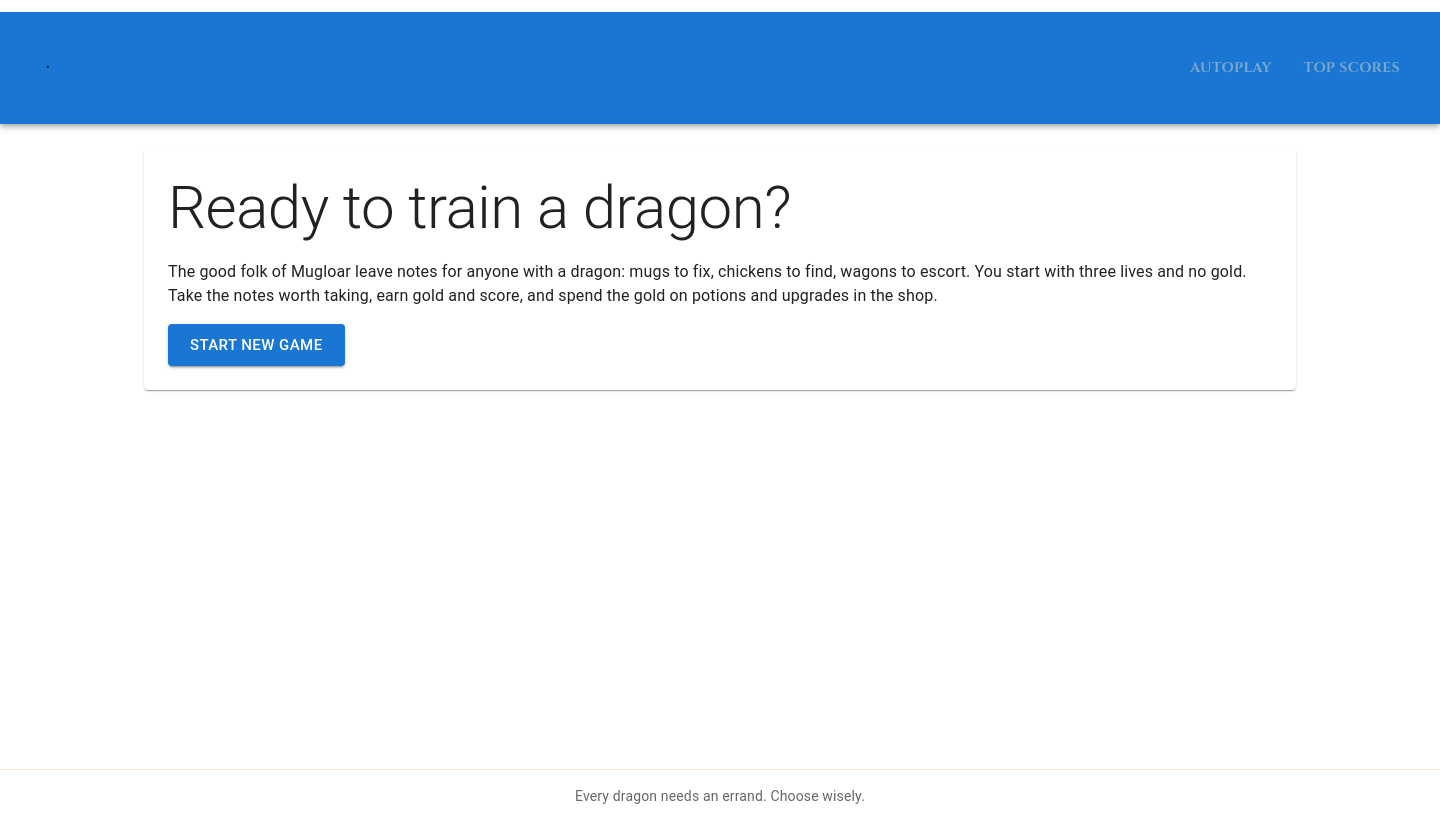
App › appShowsTheAutoplayPanelOnItsTab
Click the tab "Autoplay" at (1231, 68), box top-left (1174, 44), bottom-right (1288, 92)
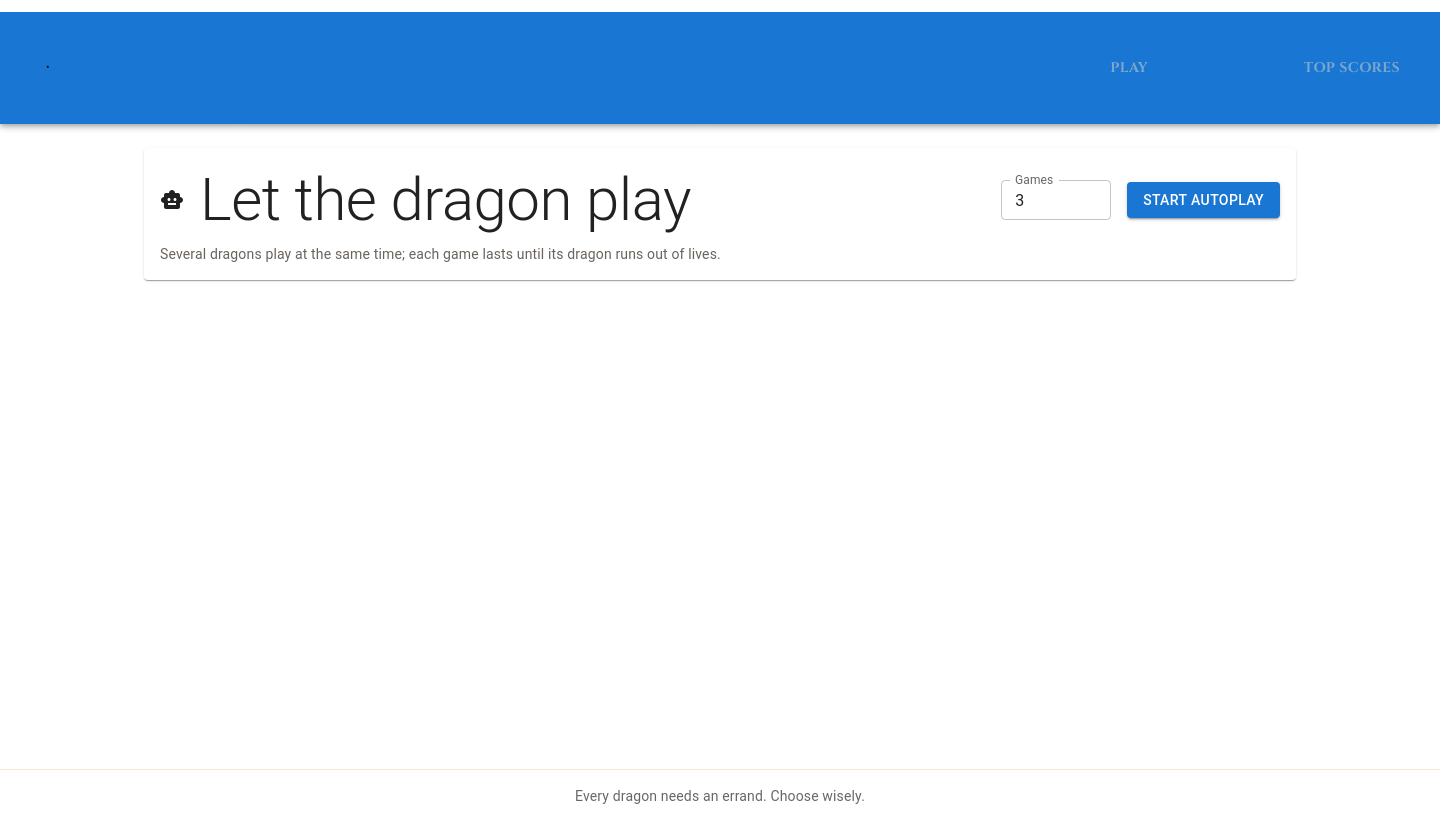
Result: the element "autoplay" is shown at top-left (144, 148), bottom-right (1296, 280)
Result: the button "Start new game" is gone
